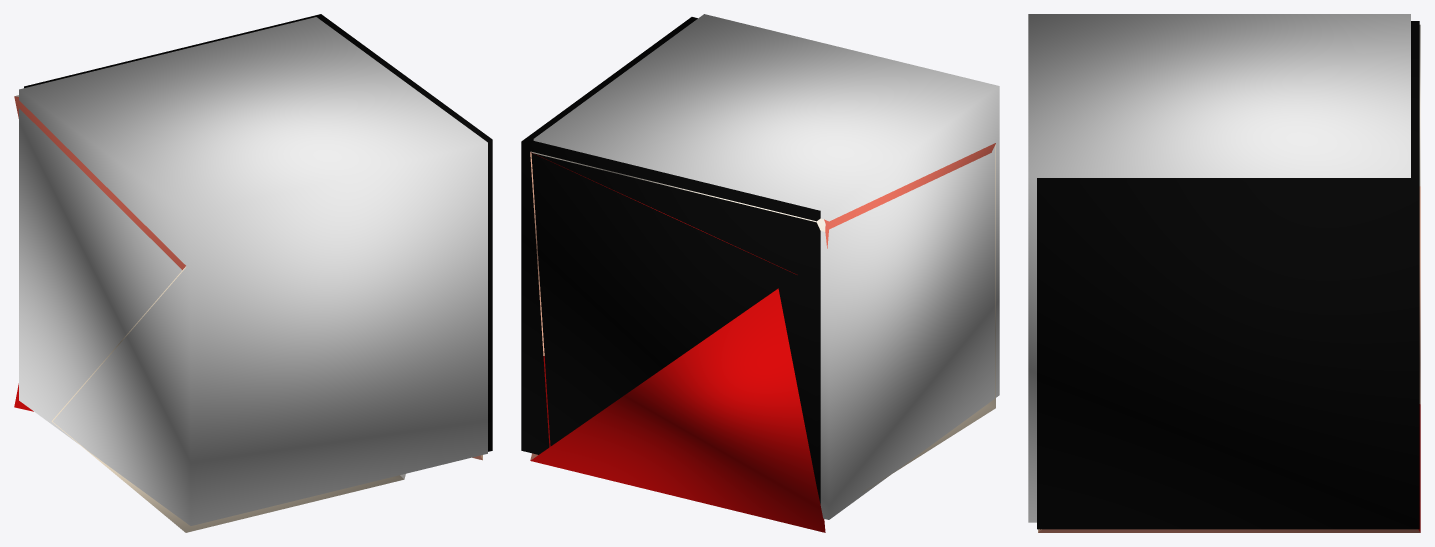
3 renders of one model, left to right at view 1: azimuth 30°, elevation 25°; view 2: azimuth 150°, elevation 25°; view 3: azimuth 270°, elevation 25°, orthographic. The views are drawn at different scales.
Visible parts, largest first — view 1: Renderer Node; view 2: Renderer Node; view 3: Renderer Node.
Part boxes in pixels (box(x1,y1,x2,y2)): Renderer Node: box(14, 14, 492, 532); Renderer Node: box(521, 14, 999, 532); Renderer Node: box(1028, 14, 1420, 532).
Size of the model in its own units: 1.12 by 1.12 by 1.11.
